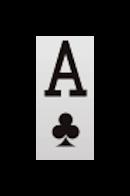AC: (40, 38, 90, 152)
